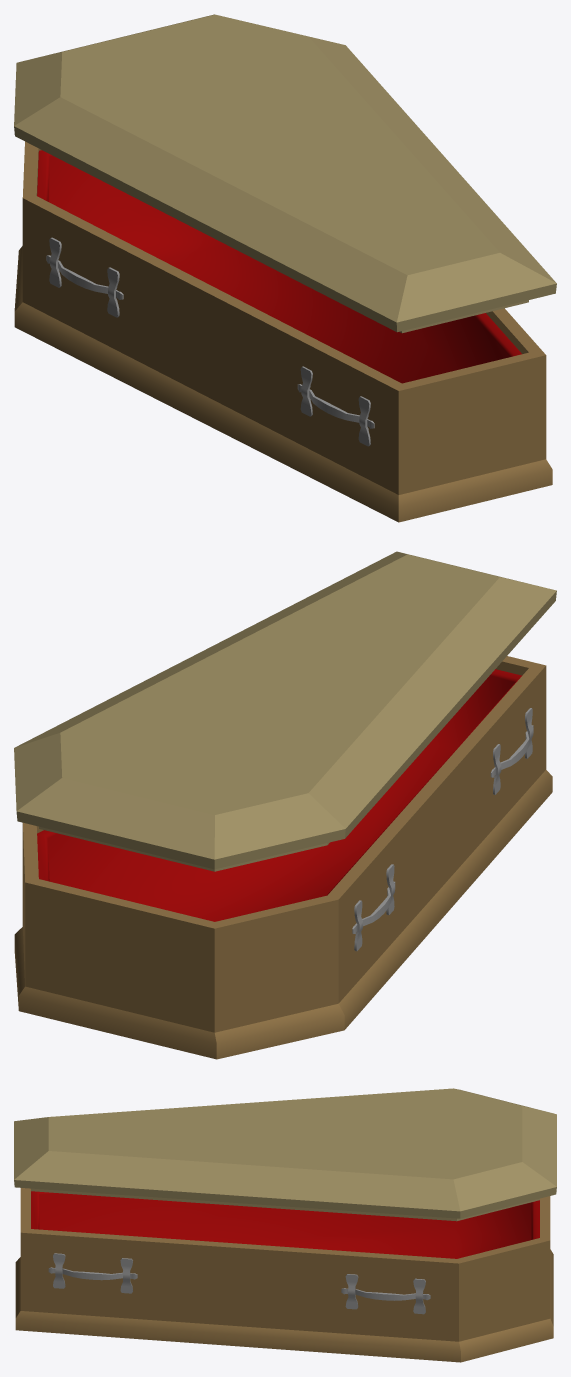
The model's file is coffinPart.FBX.
3 renders of one model, top to bottom at view 1: azimuth 30°, elevation 25°; view 2: azimuth 150°, elevation 25°; view 3: azimuth 270°, elevation 25°, orthographic. The views are drawn at different scales.
Visible parts, largest first — view 1: lid, coffin, Object001, Box010, Box007; view 2: lid, coffin, Object001, Box010, Box007; view 3: lid, coffin, Object001, Box011, Box012.
Boxes of the visible parts, x1,y1,x2,y2 form: lid: (14, 14, 556, 333); coffin: (14, 141, 552, 522); Object001: (37, 150, 521, 383); Box010: (46, 237, 123, 317); Box007: (297, 366, 374, 446); lid: (14, 551, 556, 871); coffin: (14, 656, 552, 1059); Object001: (37, 669, 521, 921); Box010: (352, 864, 395, 951); Box007: (490, 708, 533, 794); lid: (14, 1088, 556, 1221); coffin: (15, 1188, 553, 1362); Object001: (31, 1191, 539, 1258); Box011: (48, 1253, 137, 1293); Box012: (341, 1274, 430, 1314).
Size of the model in its own units: 117 by 75.28 by 220.
